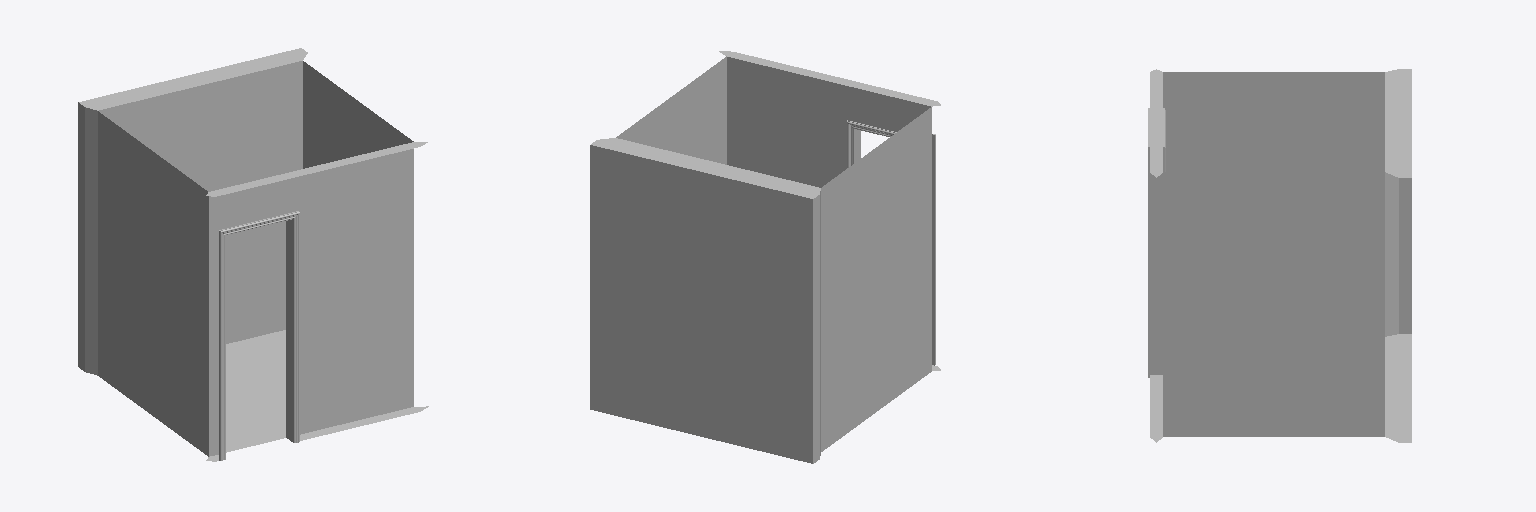
File: mesh_noceilling.obj
The picture shows the model from 3 angles: view 1: azimuth 30°, elevation 25°; view 2: azimuth 150°, elevation 25°; view 3: azimuth 270°, elevation 25°; orthographic projection.
Bounding box in the file's own units: 2.29 × 2.6 × 2.36.